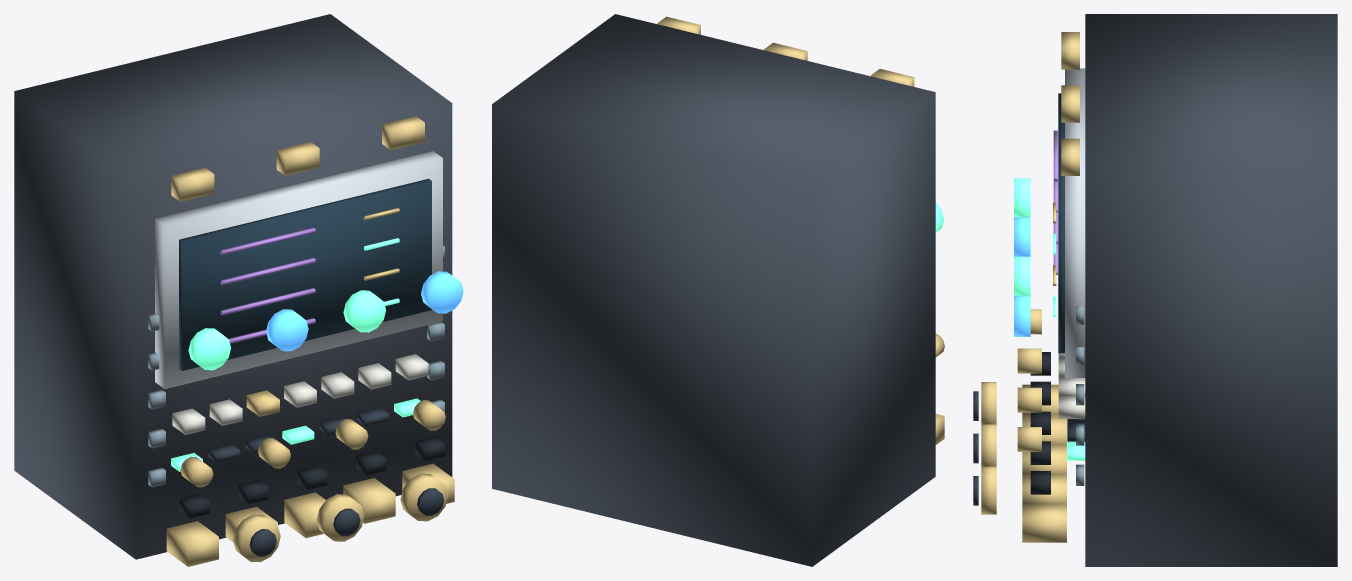
The model's file is 49_L93_MineralReferenceLibrary.glb.
3 views of the same model, side by side, from view 1: azimuth 30°, elevation 25°; view 2: azimuth 150°, elevation 25°; view 3: azimuth 270°, elevation 25° (orthographic). The views are drawn at different scales.
Visible parts, largest first — view 1: L92_MineralReferenceLibrary_Part_0000, L92_MineralReferenceLibrary_Part_0002, L92_MineralReferenceLibrary_Part_0001, L92_MineralReferenceLibrary_Part_0004, L92_MineralReferenceLibrary_Part_0006, L92_MineralReferenceLibrary_Part_0005, L92_MineralReferenceLibrary_Part_0009, L92_MineralReferenceLibrary_Part_0010, L92_MineralReferenceLibrary_Part_0003, L92_MineralReferenceLibrary_Part_0008, L92_MineralReferenceLibrary_Part_0007, L92_MineralReferenceLibrary_Part_0014 (+5 smaller); view 2: L92_MineralReferenceLibrary_Part_0000, L92_MineralReferenceLibrary_Part_0004; view 3: L92_MineralReferenceLibrary_Part_0000, L92_MineralReferenceLibrary_Part_0004, L92_MineralReferenceLibrary_Part_0001, L92_MineralReferenceLibrary_Part_0005, L92_MineralReferenceLibrary_Part_0009, L92_MineralReferenceLibrary_Part_0002, L92_MineralReferenceLibrary_Part_0010, L92_MineralReferenceLibrary_Part_0006, L92_MineralReferenceLibrary_Part_0008, L92_MineralReferenceLibrary_Part_0018, L92_MineralReferenceLibrary_Part_0014, L92_MineralReferenceLibrary_Part_0016 (+1 smaller).
Part boxes in pixels (left/top/right/bottom): L92_MineralReferenceLibrary_Part_0000: left=14, top=14, right=452, bottom=559; L92_MineralReferenceLibrary_Part_0002: left=179, top=178, right=431, bottom=370; L92_MineralReferenceLibrary_Part_0001: left=155, top=151, right=442, bottom=388; L92_MineralReferenceLibrary_Part_0004: left=166, top=116, right=454, bottom=566; L92_MineralReferenceLibrary_Part_0006: left=172, top=354, right=428, bottom=434; L92_MineralReferenceLibrary_Part_0005: left=171, top=238, right=420, bottom=471; L92_MineralReferenceLibrary_Part_0009: left=179, top=436, right=445, bottom=518; L92_MineralReferenceLibrary_Part_0010: left=266, top=271, right=463, bottom=351; L92_MineralReferenceLibrary_Part_0003: left=220, top=227, right=315, bottom=343; L92_MineralReferenceLibrary_Part_0008: left=148, top=245, right=444, bottom=487; L92_MineralReferenceLibrary_Part_0007: left=208, top=407, right=388, bottom=462; L92_MineralReferenceLibrary_Part_0014: left=233, top=514, right=280, bottom=562; L92_MineralReferenceLibrary_Part_0000: left=492, top=14, right=935, bottom=566; L92_MineralReferenceLibrary_Part_0004: left=657, top=16, right=944, bottom=444; L92_MineralReferenceLibrary_Part_0000: left=1085, top=14, right=1337, bottom=566; L92_MineralReferenceLibrary_Part_0004: left=1017, top=32, right=1079, bottom=542; L92_MineralReferenceLibrary_Part_0001: left=1065, top=68, right=1085, bottom=377; L92_MineralReferenceLibrary_Part_0005: left=1014, top=178, right=1085, bottom=460; L92_MineralReferenceLibrary_Part_0009: left=1030, top=352, right=1050, bottom=494; L92_MineralReferenceLibrary_Part_0002: left=1058, top=93, right=1064, bottom=353; L92_MineralReferenceLibrary_Part_0010: left=1014, top=217, right=1030, bottom=336; L92_MineralReferenceLibrary_Part_0006: left=1058, top=353, right=1085, bottom=418; L92_MineralReferenceLibrary_Part_0008: left=1076, top=306, right=1084, bottom=485; L92_MineralReferenceLibrary_Part_0018: left=981, top=466, right=996, bottom=514; L92_MineralReferenceLibrary_Part_0014: left=981, top=382, right=996, bottom=424; L92_MineralReferenceLibrary_Part_0016: left=981, top=424, right=996, bottom=466.
Size of the model in its own units: 1.02 by 1.17 by 0.982.
